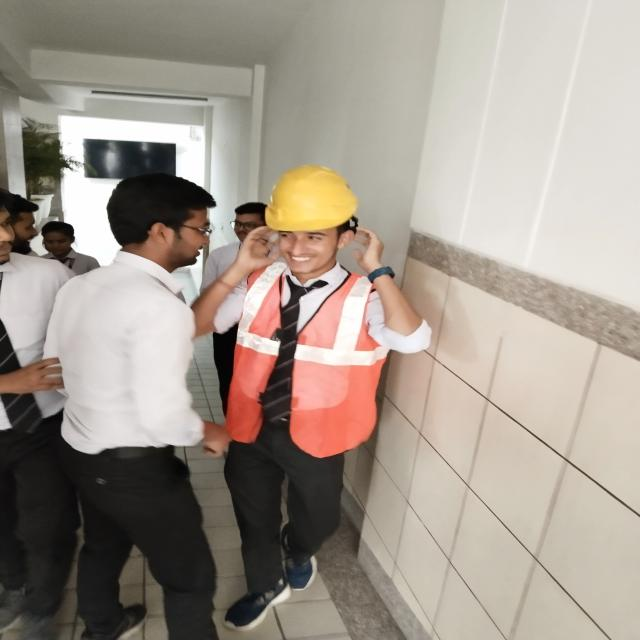safe: (222, 157, 405, 631)
unsafe: (62, 168, 218, 637)
